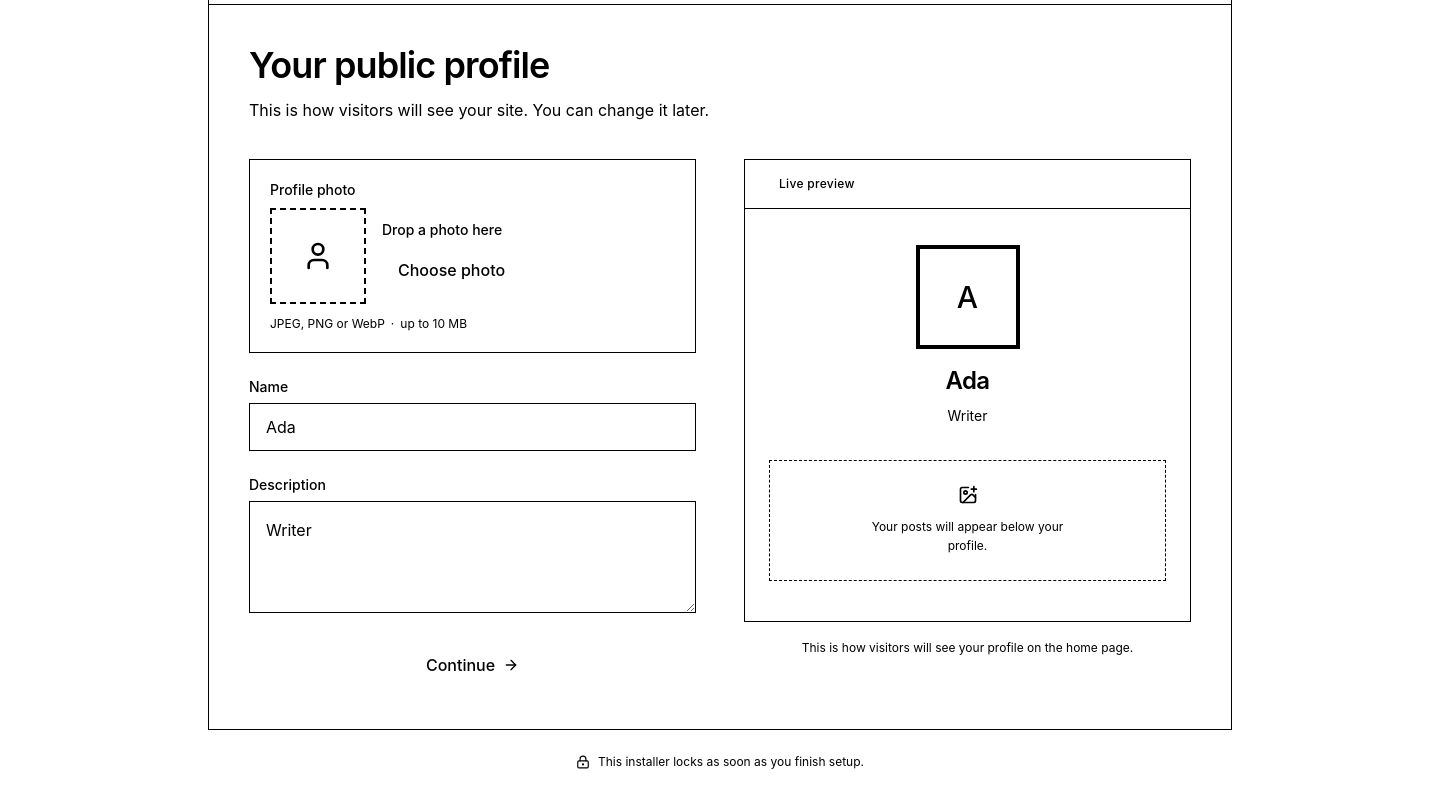
Test: SetupWizard › Given a saved draft, should move to the owner step after Continue
(page scrolled)
What coordinates should you click on to do the following:
click the button "Continue"
I would click on:
 (472, 665)
Its box is [249,641,696,689].
(page scrolled)
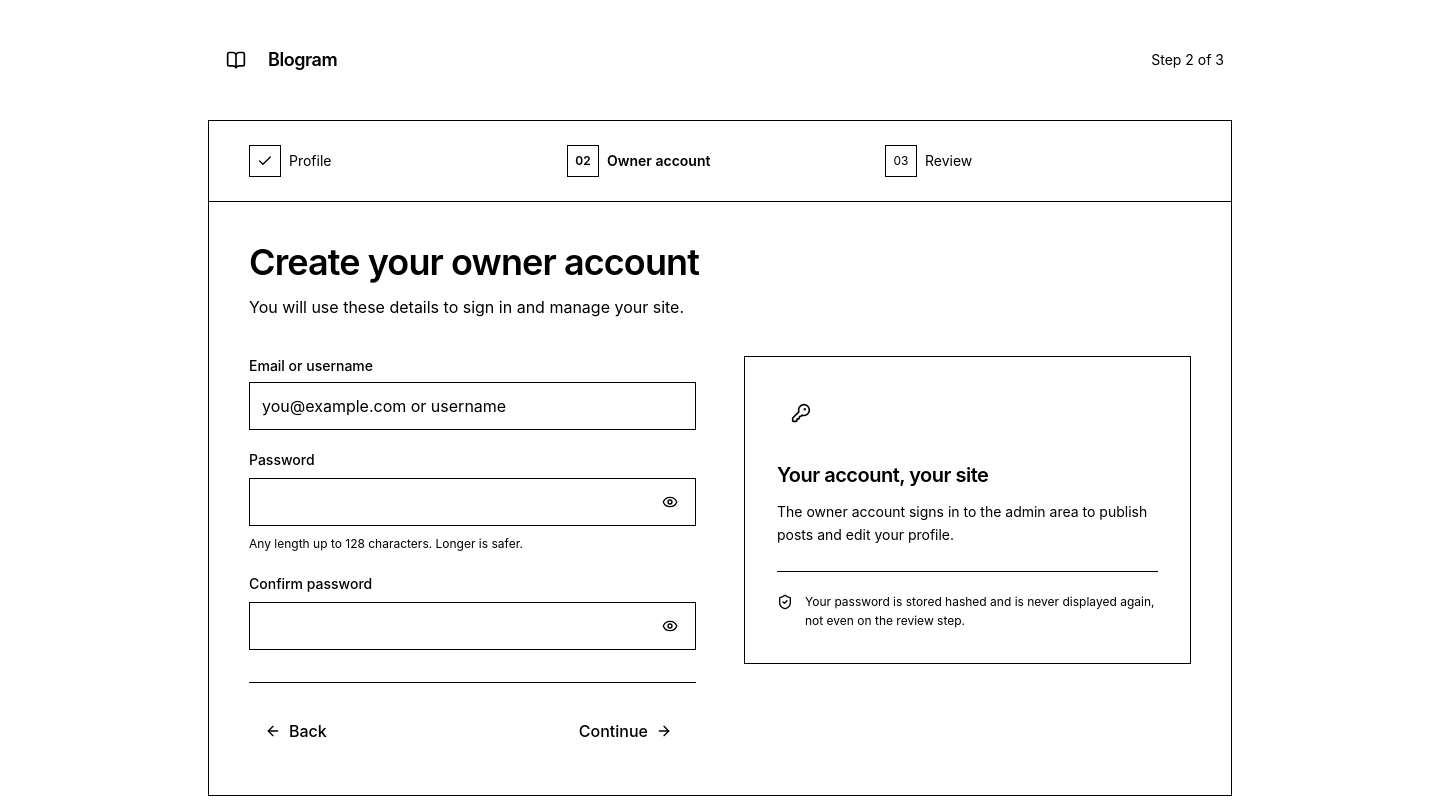
Check: the text "Step 2 of 3" is shown, box [1151,50,1224,70]
